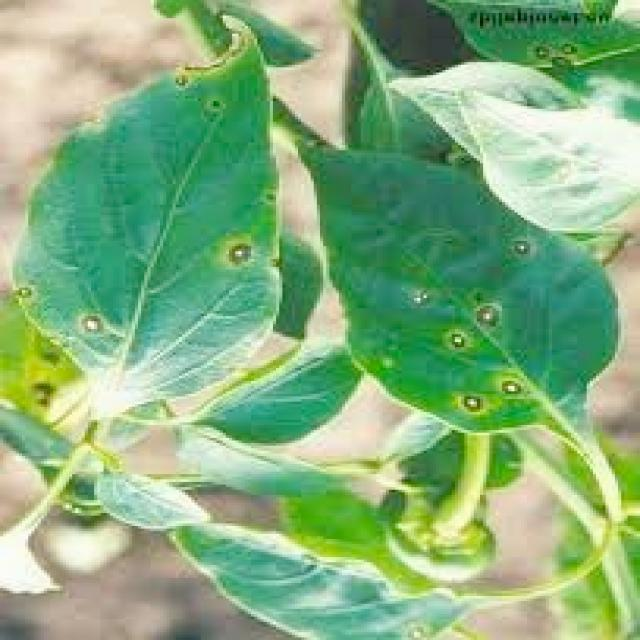Bercak Daun Serkospora: (9, 23, 282, 414), (300, 132, 624, 436)
